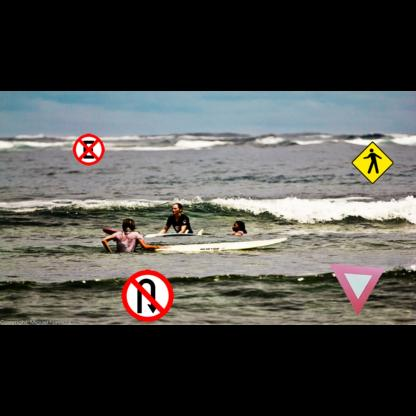A-32a: (351, 141, 394, 184)
R-2: (329, 264, 385, 316)
R-6c: (73, 134, 105, 166)
